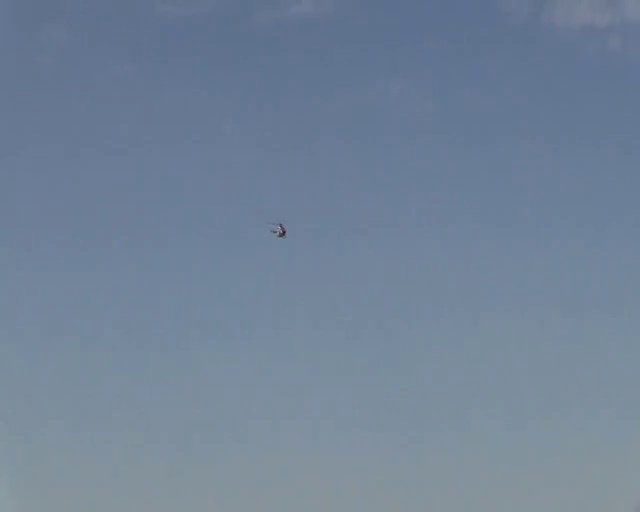HELICOPTER: (267, 222, 286, 238)
